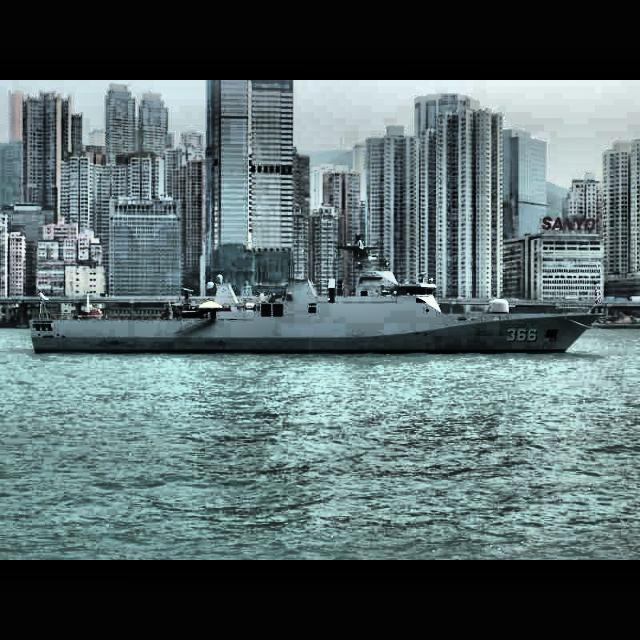combat_vessel: (29, 232, 605, 356)
